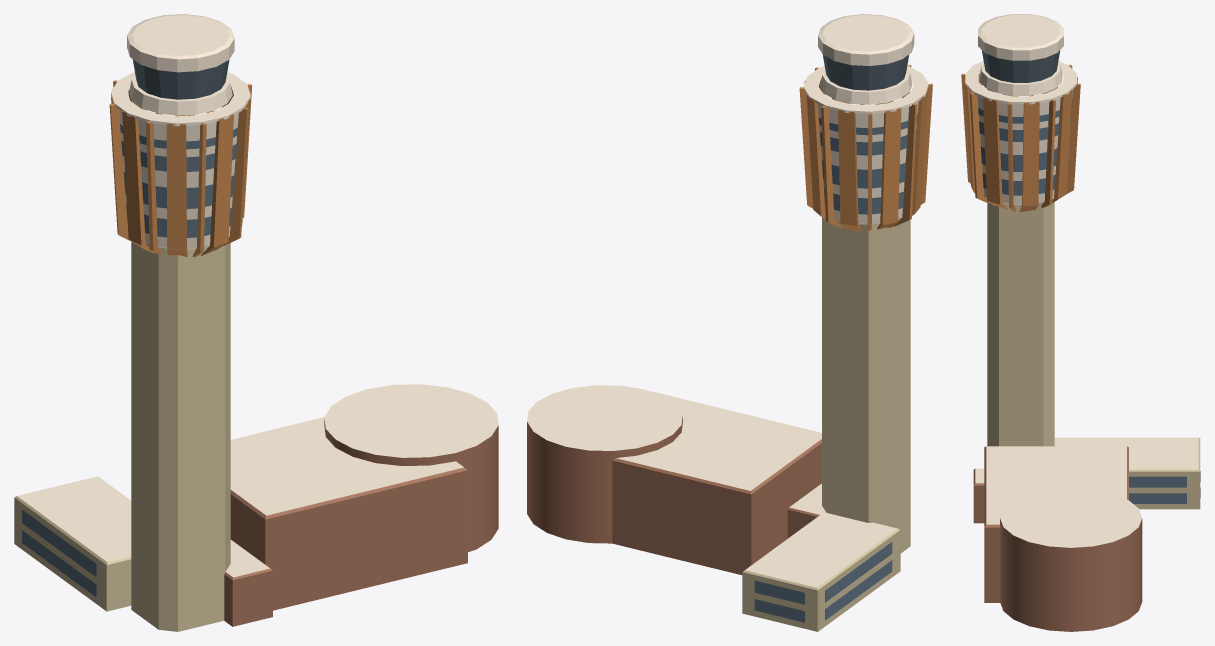
File: phx-sky-harbor-control-tower.glb
3 views of the same model, side by side, from view 1: azimuth 30°, elevation 25°; view 2: azimuth 150°, elevation 25°; view 3: azimuth 270°, elevation 25° (orthographic). The views are drawn at different scales.
Parts seen in each view (by area): view 1: Phoenix Sky Harbor Air Traffic Control Tower; view 2: Phoenix Sky Harbor Air Traffic Control Tower; view 3: Phoenix Sky Harbor Air Traffic Control Tower.
Boxes of the visible parts, x1=… form: Phoenix Sky Harbor Air Traffic Control Tower: x1=14, y1=14, x2=498, y2=631; Phoenix Sky Harbor Air Traffic Control Tower: x1=527, y1=14, x2=932, y2=631; Phoenix Sky Harbor Air Traffic Control Tower: x1=961, y1=14, x2=1200, y2=631.
Size of the model in its own units: 71.34 by 97.8 by 45.42.
